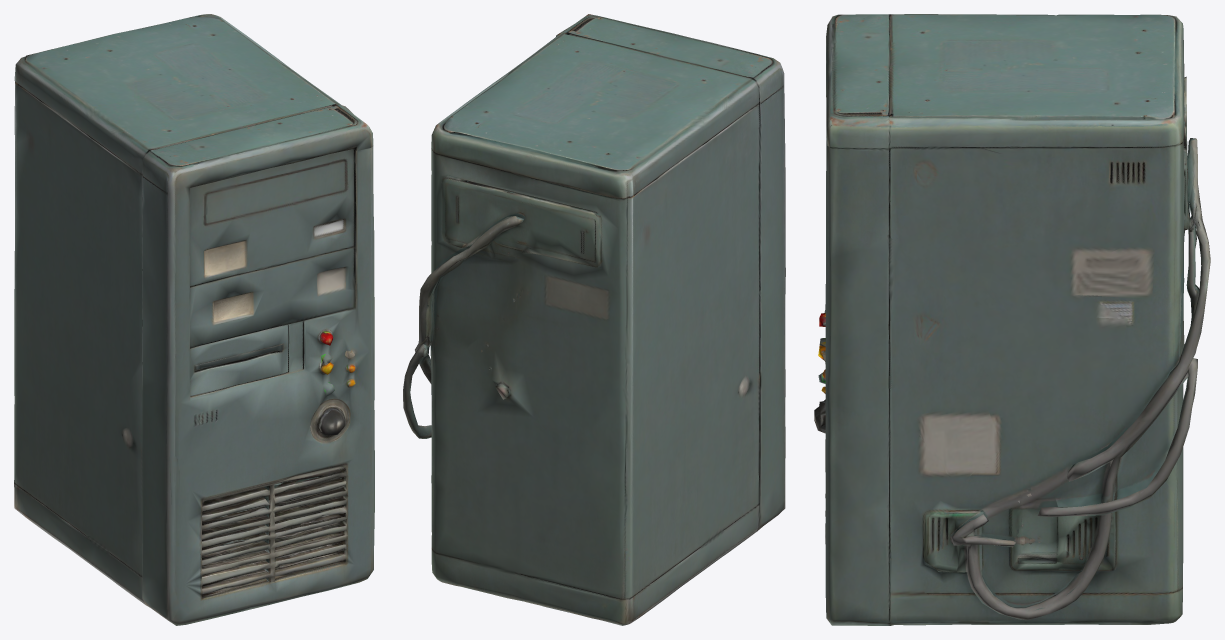
File: Old_School_Tower_0404141303_texture.glb
The picture shows the model from 3 angles, left to right: view 1: azimuth 30°, elevation 25°; view 2: azimuth 150°, elevation 25°; view 3: azimuth 270°, elevation 25°; orthographic projection. The views are drawn at different scales.
Bounding box in the file's own units: 1.07 × 2 × 1.41.
Materials: 1 (1 with a texture image).
